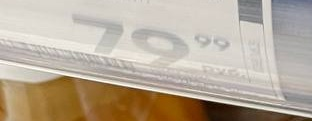1d: (0, 37, 135, 72)
